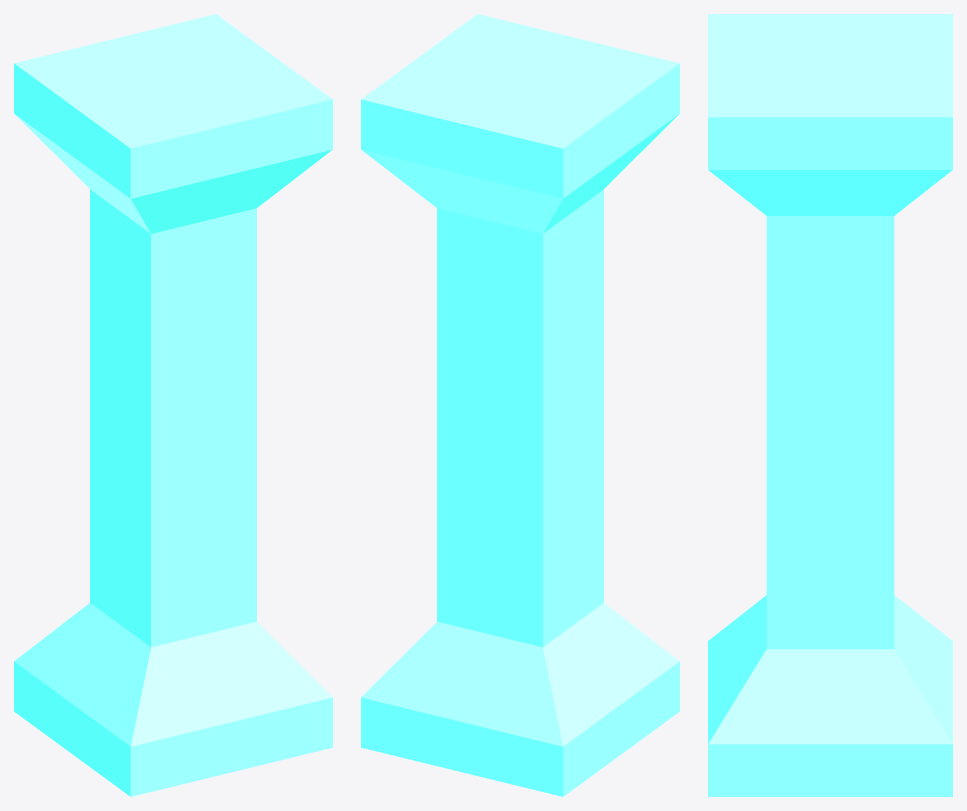
File: columnPlane.gltf
3 views of the same model, side by side, from view 1: azimuth 30°, elevation 25°; view 2: azimuth 150°, elevation 25°; view 3: azimuth 270°, elevation 25° (orthographic). The views are drawn at different scales.
Visible parts, largest first — view 1: columnPlane; view 2: columnPlane; view 3: columnPlane.
Part boxes in pixels (left/top/right/bottom): columnPlane: left=14, top=14, right=332, bottom=796; columnPlane: left=361, top=14, right=679, bottom=796; columnPlane: left=708, top=14, right=952, bottom=796.
Size of the model in its own units: 1.11 by 3.4 by 1.11.
